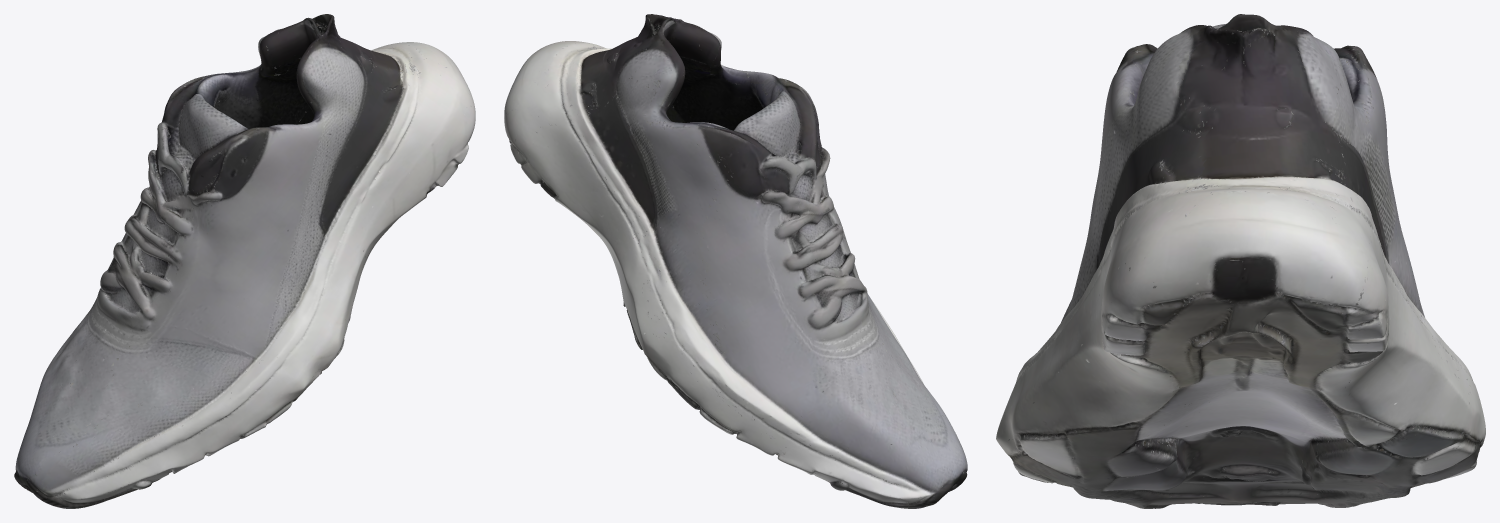
Rendered from DEC com.glb.
3 renders of one model, left to right at view 1: azimuth 30°, elevation 25°; view 2: azimuth 150°, elevation 25°; view 3: azimuth 270°, elevation 25°, orthographic. The views are drawn at different scales.
Visible parts, largest first — view 1: Mesh_0; view 2: Mesh_0; view 3: Mesh_0.
Part boxes in pixels (x1,y1,x2,y2): Mesh_0: [14, 14, 475, 508]; Mesh_0: [504, 14, 967, 508]; Mesh_0: [996, 14, 1485, 508].
Bounding box in the file's own units: 6.27 × 5.8 × 3.69.
1 material, 1 textured.
